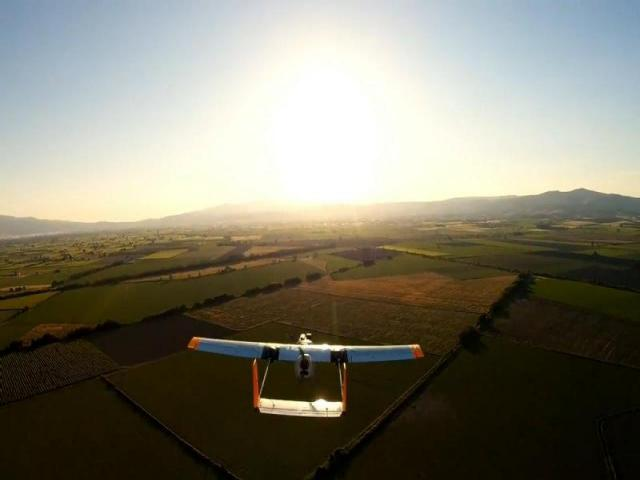hedef: (178, 318, 432, 424)
